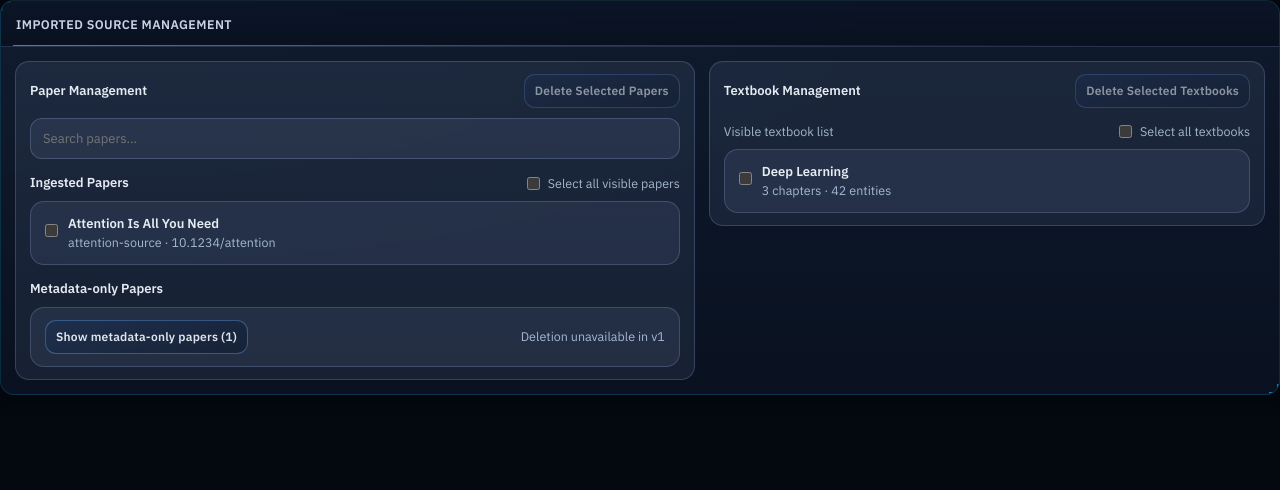
Test: ImportedSourceManagement › expands metadata-only papers on demand
Step 1. Click the button "Show metadata-only papers (1)" → click(146, 336), box [45,320,248,354]
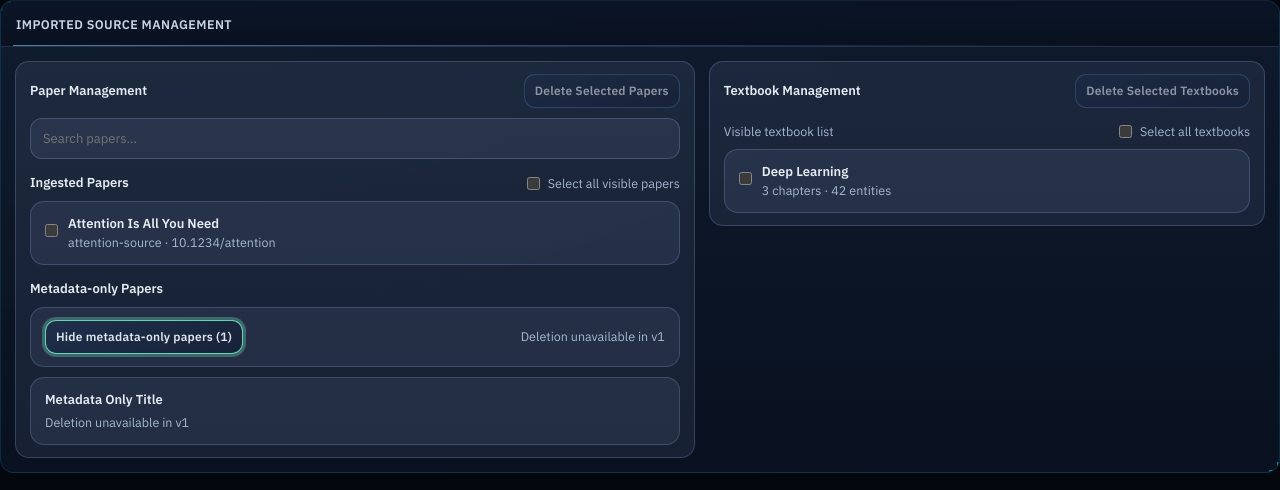
Check: the text "Metadata Only Title" is shown, box [45,390,163,408]
Check: the button "Hide metadata-only papers (1)" is shown, box [45,320,243,354]
